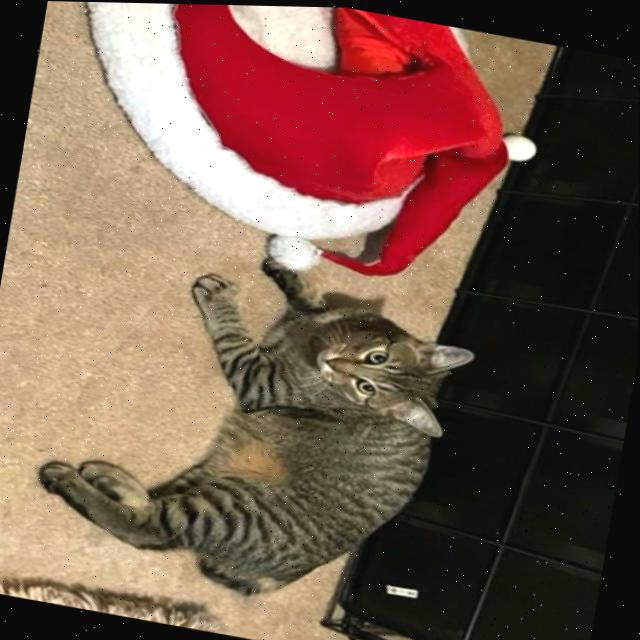American Bobtail: (19, 220, 488, 635)
